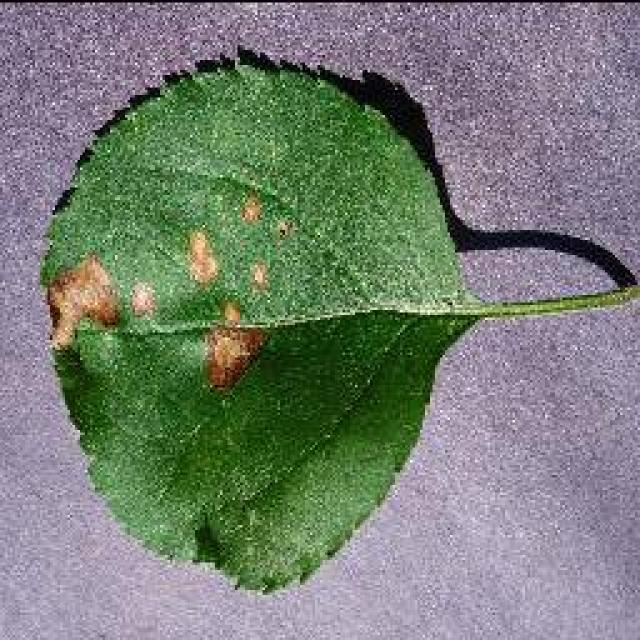apple healthy: (35, 43, 637, 595)
